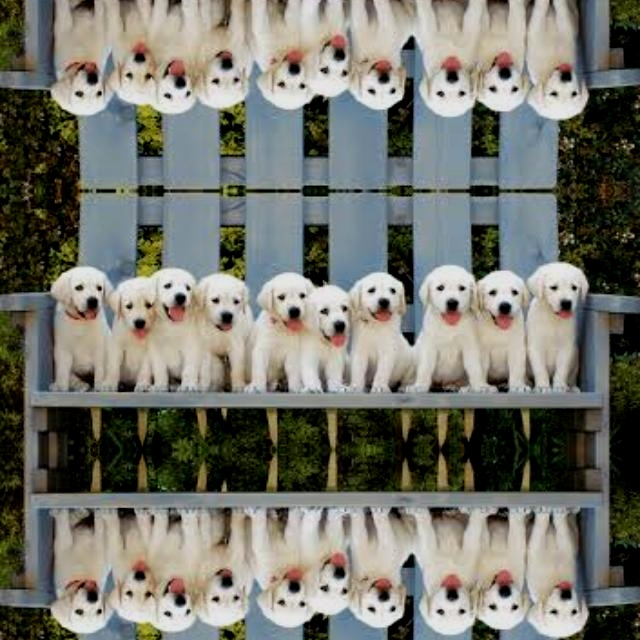dog: (414, 256, 490, 399), (414, 499, 490, 640), (52, 239, 118, 387), (347, 256, 413, 402), (347, 496, 413, 640), (51, 0, 118, 141), (414, 0, 490, 124), (51, 511, 118, 640), (347, 0, 413, 124), (529, 260, 583, 410), (529, 489, 583, 639), (529, 0, 583, 120), (204, 250, 249, 392), (203, 506, 248, 640), (203, 0, 248, 130)
